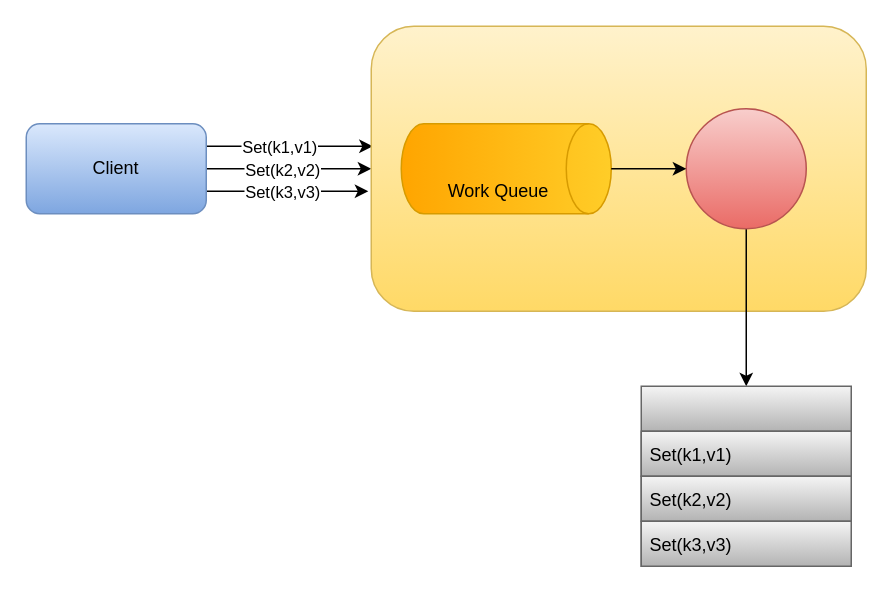
This 893x593 diagram has some shape labels left out. The shapes that lost their labels are listed below. From the top down, each one's box as (x1, y1, x2, y2) in pixels, then its label:
(685, 107, 806, 229): Worker Thread
(640, 385, 851, 566): KV Store
